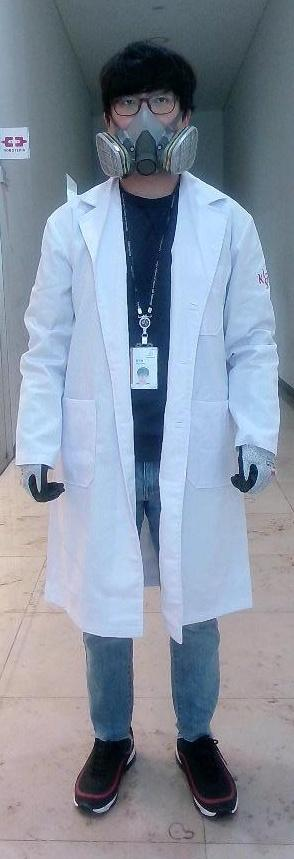lab_coat: (62, 197, 242, 631)
